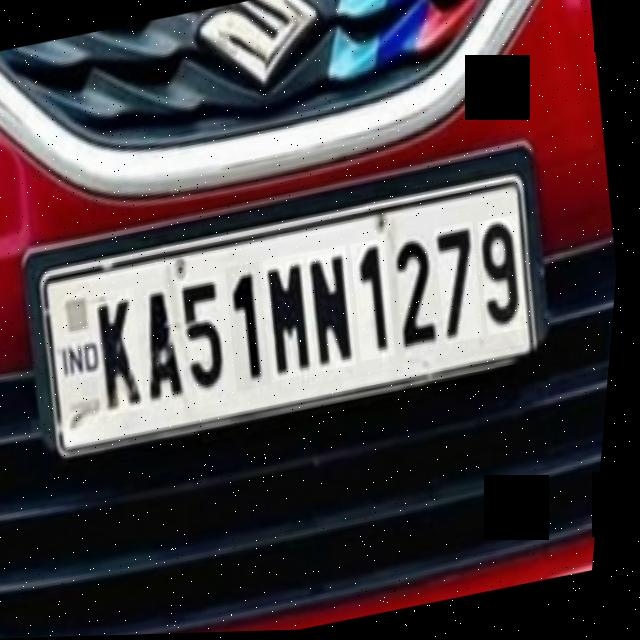1: (221, 262, 286, 393), (347, 240, 409, 365)
5: (172, 273, 251, 400)
7: (431, 223, 496, 347)
9: (474, 217, 540, 339)
A: (136, 279, 202, 411)
K: (86, 287, 159, 418)
M: (259, 253, 331, 383)
N: (303, 246, 370, 374)
